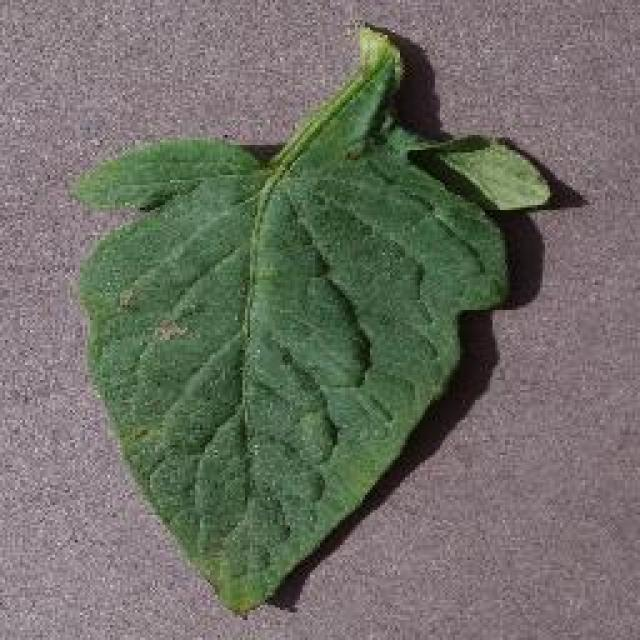Tomato___Target_Spot: (78, 28, 548, 610)
